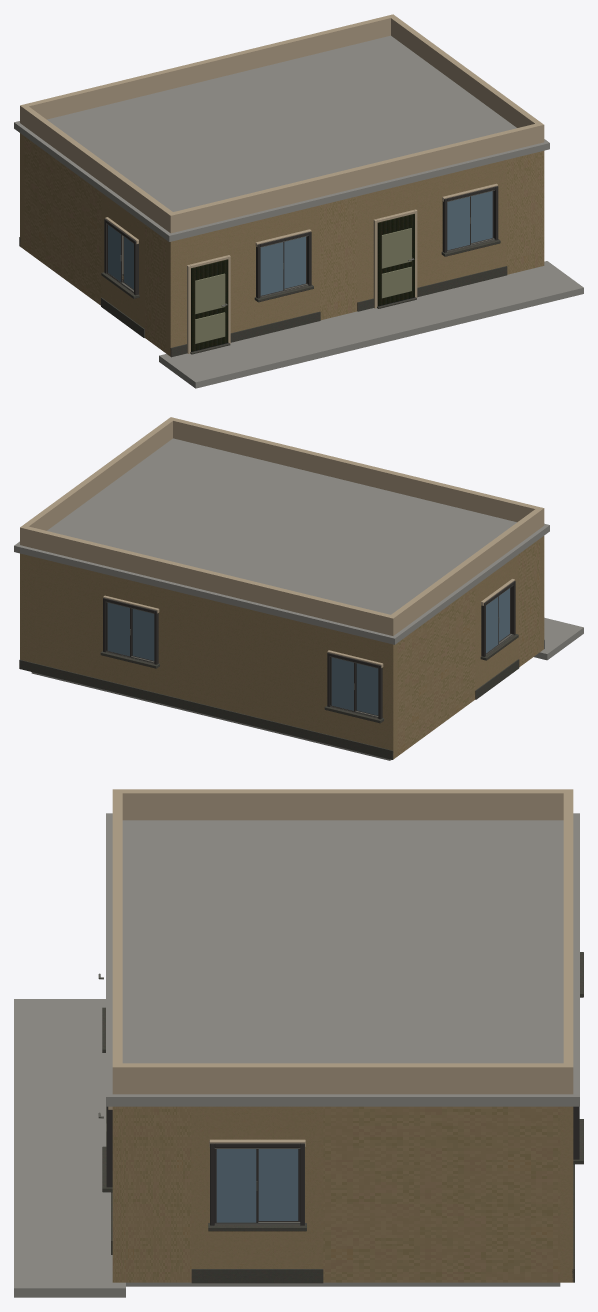
Rendered from MS_HV_06_OlderDuplexRental.glb.
3 views of the same model, one above another, from view 1: azimuth 30°, elevation 25°; view 2: azimuth 150°, elevation 25°; view 3: azimuth 270°, elevation 25° (orthographic). The views are drawn at different scales.
Parts seen in each view (by area): view 1: StaticBatch6, StaticBatch2, StaticBatch23, StaticBatch8, Plaster_005, Plaster_0052, StaticBatch3, RaisedPanel2, RaisedPanel, Leaf_0012, Leaf_001, Glass_001 (+10 smaller); view 2: StaticBatch6, StaticBatch2, StaticBatch23, StaticBatch3, StaticBatch4, Glass_0014, Glass_0013, StaticBatch8, Glass4, Glass3, StaticBatch5, Frame3 (+6 smaller); view 3: StaticBatch6, StaticBatch2, StaticBatch23, StaticBatch8, StaticBatch3, Glass_0016, Glass6, StaticBatch5, Frame6.
Boxes of the visible parts, box(x1,y1,x2,y2) form: StaticBatch6: box(14, 35, 549, 241); StaticBatch2: box(20, 133, 544, 353); StaticBatch23: box(20, 14, 544, 233); StaticBatch8: box(159, 261, 583, 388); Plaster_005: box(166, 224, 245, 356); Plaster_0052: box(357, 178, 432, 302); StaticBatch3: box(19, 237, 507, 338); RaisedPanel2: box(381, 228, 411, 298); RaisedPanel: box(195, 273, 225, 343); Leaf_0012: box(377, 214, 414, 305); Leaf_001: box(191, 259, 228, 351); Glass_001: box(260, 242, 283, 295); StaticBatch6: box(14, 438, 549, 644); StaticBatch2: box(20, 539, 539, 759); StaticBatch23: box(20, 417, 544, 635); StaticBatch3: box(94, 634, 519, 759); StaticBatch4: box(19, 659, 318, 741); Glass_0014: box(331, 657, 353, 710); Glass_0013: box(107, 603, 129, 656); StaticBatch8: box(534, 617, 583, 660); Glass4: box(356, 663, 378, 715); Glass3: box(132, 609, 154, 660); StaticBatch5: box(31, 672, 391, 760); Frame3: box(103, 598, 158, 664); StaticBatch6: box(106, 813, 579, 1106); StaticBatch2: box(112, 1106, 573, 1282); StaticBatch23: box(112, 789, 573, 1094); StaticBatch8: box(14, 999, 125, 1297); StaticBatch3: box(102, 952, 583, 1283); Glass_0016: box(216, 1149, 256, 1222); Glass6: box(258, 1149, 298, 1220); StaticBatch5: box(126, 1282, 560, 1286); Frame6: box(210, 1143, 304, 1225).
Size of the model in its own units: 10.4 by 3.77 by 8.66.
Materials: 19 (5 with a texture image).
